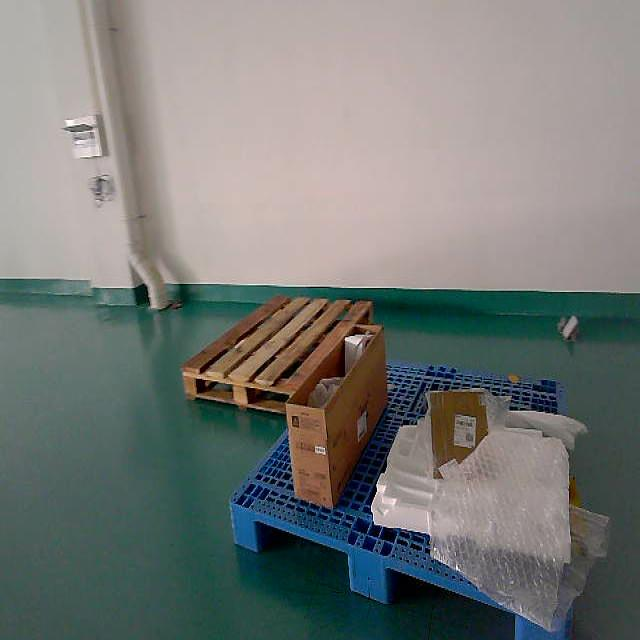euro: (181, 296, 374, 412)
